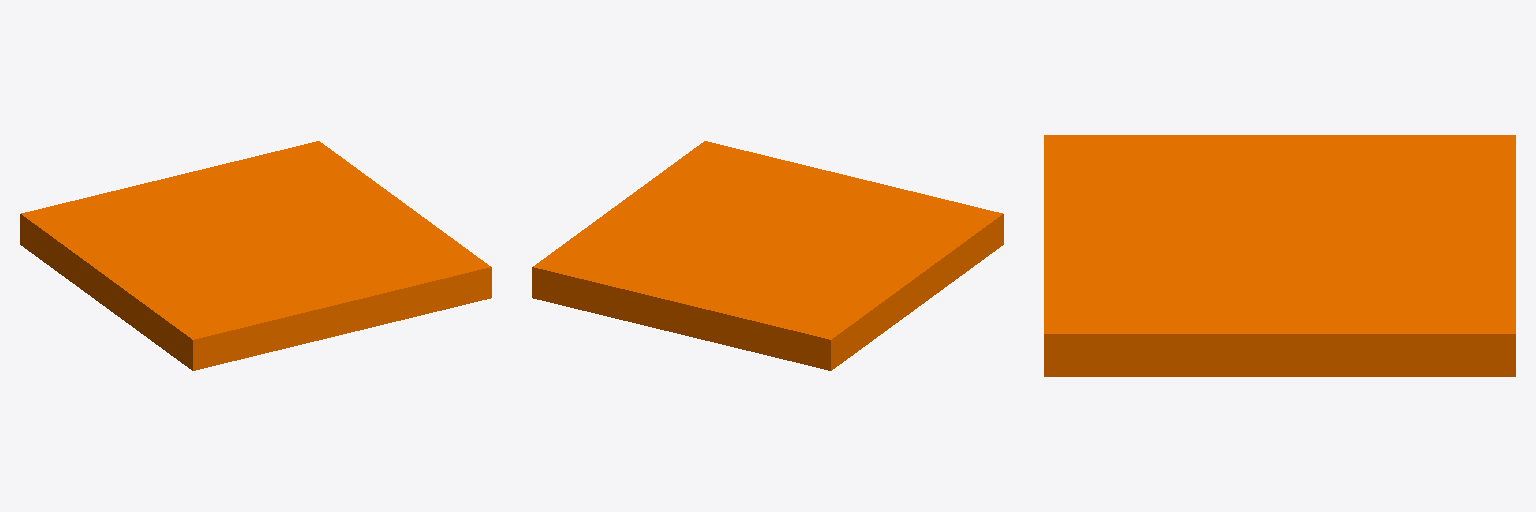
robot.urdf — plate:
<?xml version="1.0"?>
<robot name="plate">
  <link name="plate_base_link">
    <contact>
      <lateral_friction value="0.4"/>
      <spinning_friction value="10.0"/>
    </contact>
    <inertial>
      <origin rpy="0 0 0" xyz="0 0 0"/>
      <mass value="1"/>
      <inertia ixx="1" ixy="0" ixz="0" iyy="1" iyz="0" izz="1"/>
    </inertial>
    <visual>
      <origin rpy="0 0 0" xyz="0.0 0.0 0.0"/>
      <geometry>
        <box size="0.15 0.15 0.015"/>
      </geometry>
      <material name="blockmat">
        <color rgba="1.0 0.5 0.0 1"/>
      </material>
    </visual>
    <collision>
      <origin rpy="0 0 0" xyz="0.0 0.0 0.0"/>
      <geometry>
        <box size="0.15 0.15 0.015"/>
      </geometry>
    </collision>
  </link>
</robot>

--- Facts derived from the render (not from the file) ---
The picture shows the robot from 3 angles, left to right: view 1: azimuth 30°, elevation 25°; view 2: azimuth 150°, elevation 25°; view 3: azimuth 270°, elevation 25°; orthographic projection.
Model plate with 1 links and 0 joints (none), rooted at plate_base_link, posed every joint at zero.
Visible links, largest first — view 1: plate_base_link; view 2: plate_base_link; view 3: plate_base_link.
Boxes of the visible links, x1,y1,x2,y2 form: plate_base_link: (20, 141, 491, 370); plate_base_link: (532, 141, 1003, 370); plate_base_link: (1044, 135, 1515, 376).
Bounding box of the posed robot: 0.15 × 0.15 × 0.015 m (x, y, z).
Geometry: primitives only (box / cylinder / sphere), no mesh files.
